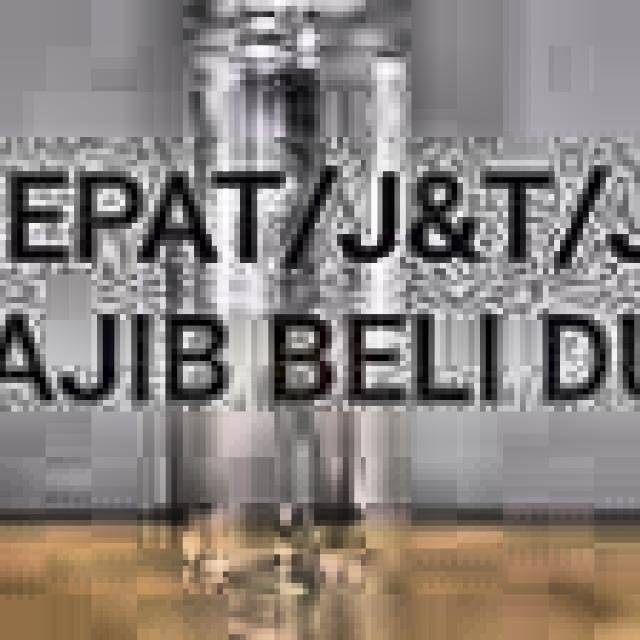plastic: (131, 0, 480, 640)
